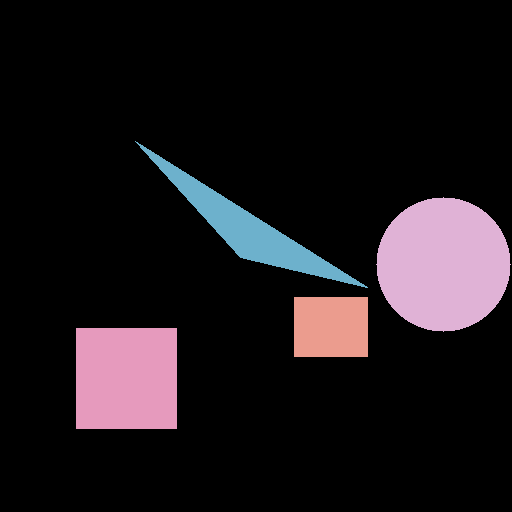circle: (376, 197, 510, 331)
rectangle: (294, 297, 367, 356)
square: (76, 328, 176, 428)
triangle: (135, 141, 367, 287)
